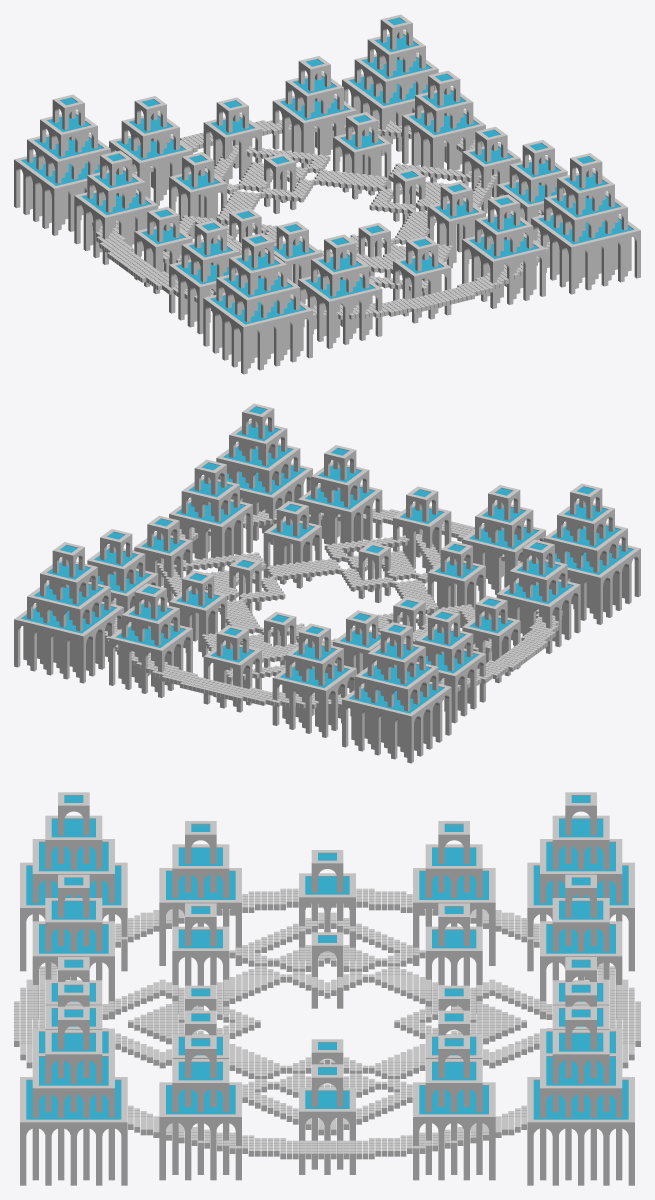
Rendered from world3.obj.
The picture shows the model from 3 angles, top to bottom: view 1: azimuth 30°, elevation 25°; view 2: azimuth 150°, elevation 25°; view 3: azimuth 270°, elevation 25°; orthographic projection. The views are drawn at different scales.
Parts seen in each view (by area): view 1: block, water; view 2: block, water; view 3: block, water.
Part boxes in pixels (x1,y1,x2,y2): block: (14, 14, 640, 374); water: (21, 17, 633, 324); block: (14, 403, 640, 763); water: (21, 406, 633, 713); block: (14, 792, 640, 1185); water: (26, 795, 628, 1119).
Size of the model in its own units: 989 by 260 by 989.
